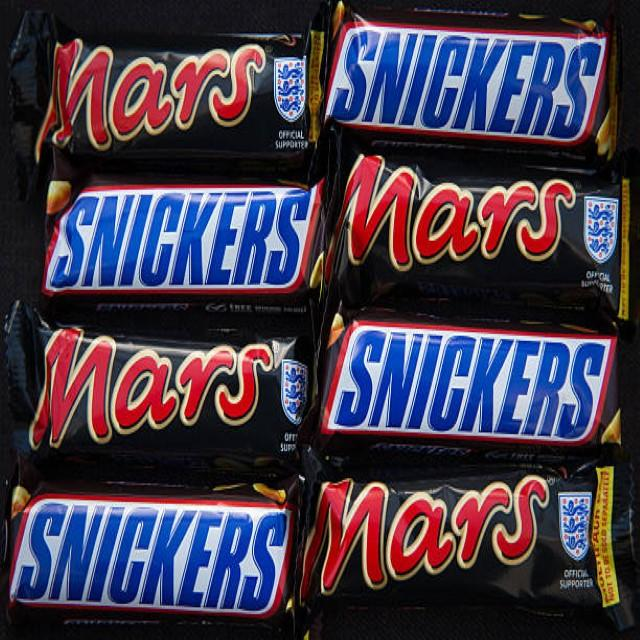mars_chocolate: (313, 471, 640, 628), (348, 168, 630, 338), (15, 316, 312, 466), (59, 36, 304, 146)
snickers_chocolate: (340, 18, 620, 154), (15, 494, 282, 624), (340, 330, 640, 443), (45, 180, 327, 295)
